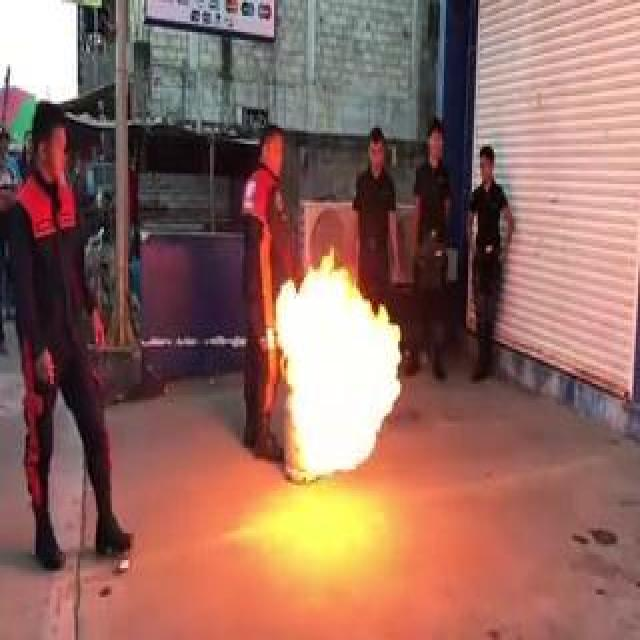Smoke: (298, 256, 364, 485)
